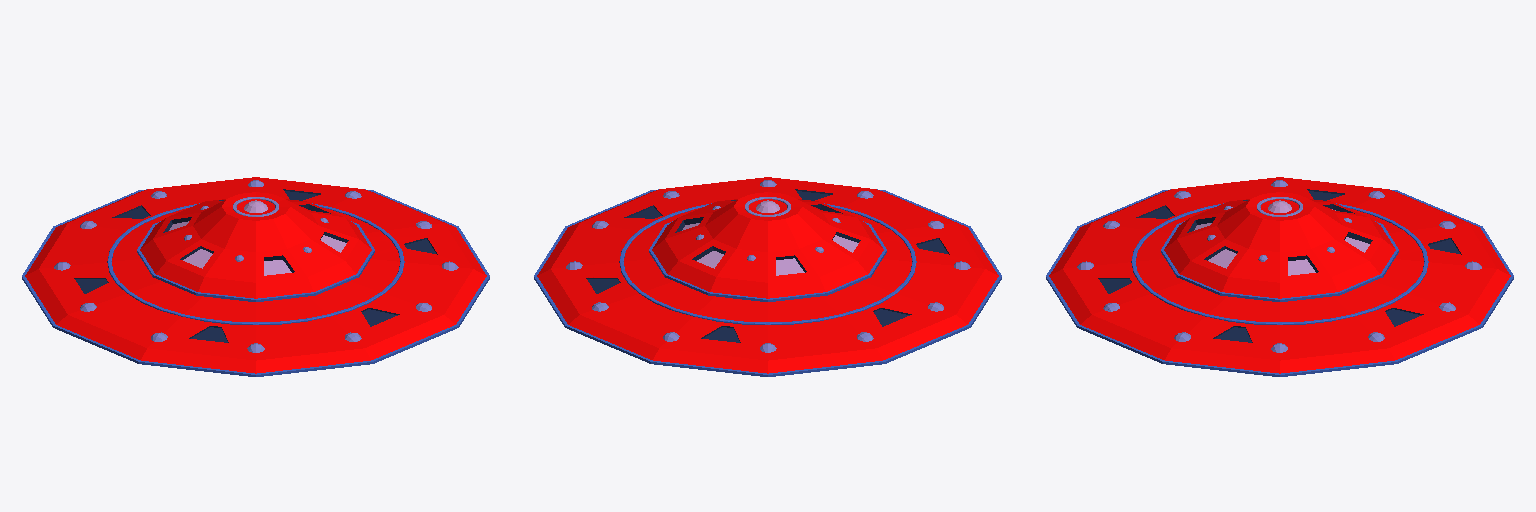
The picture shows the model from 3 angles: view 1: azimuth 30°, elevation 25°; view 2: azimuth 150°, elevation 25°; view 3: azimuth 270°, elevation 25°; orthographic projection.
Size of the model in its own units: 424 by 108 by 424.
1 materials, 1 textured.